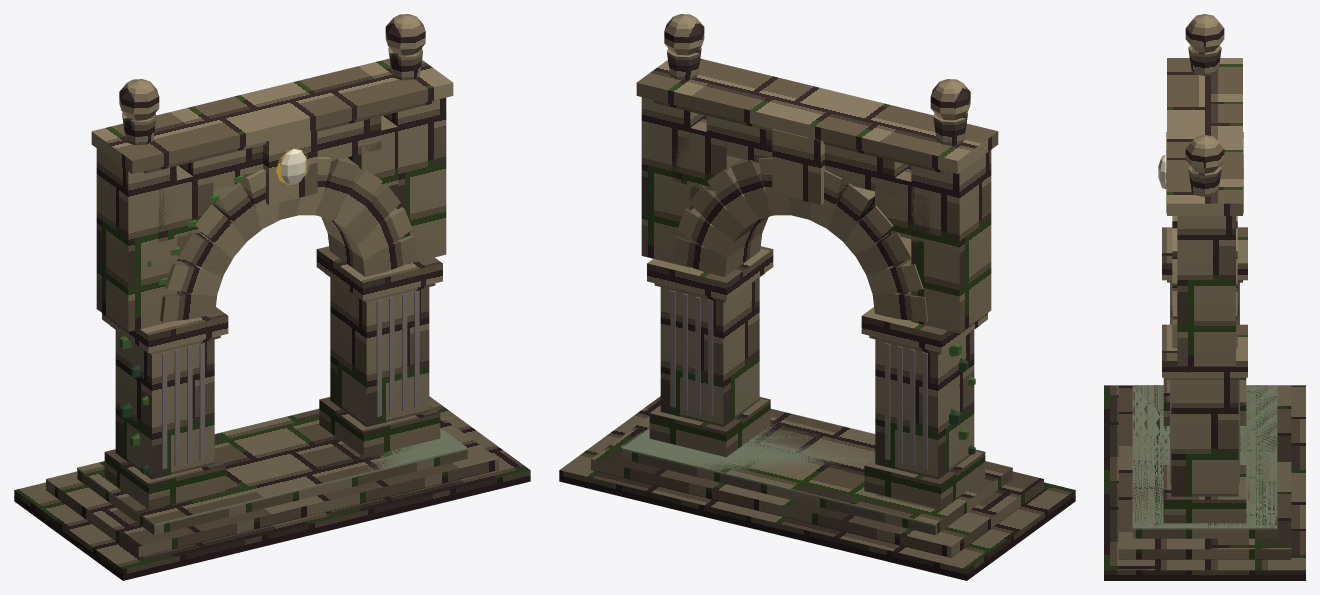
Rendered from riftgate_arch.glb.
3 renders of one model, left to right at view 1: azimuth 30°, elevation 25°; view 2: azimuth 150°, elevation 25°; view 3: azimuth 270°, elevation 25°, orthographic. The views are drawn at different scales.
Parts seen in each view (by area): view 1: riftgate_arch; view 2: riftgate_arch; view 3: riftgate_arch.
Part boxes in pixels (<box>): riftgate_arch: <box>14,14,530,580</box>; riftgate_arch: <box>559,14,1075,580</box>; riftgate_arch: <box>1104,14,1305,580</box>.
Bounding box in the file's own units: 5.2 × 5.41 × 2.4.
Materials: 2 (1 with a texture image).
